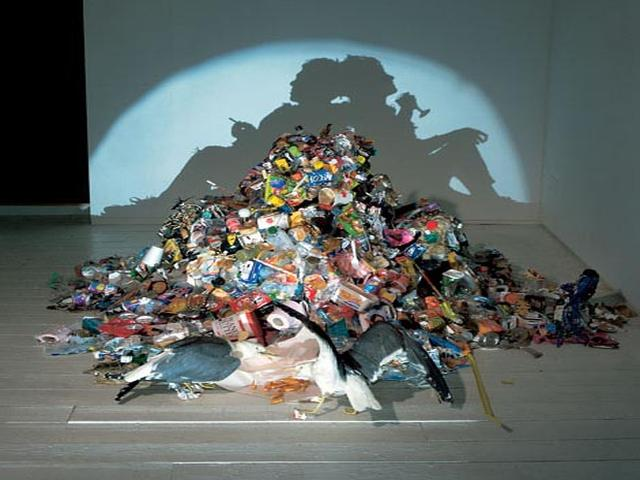garbage: (103, 261, 520, 354), (270, 142, 382, 276)
